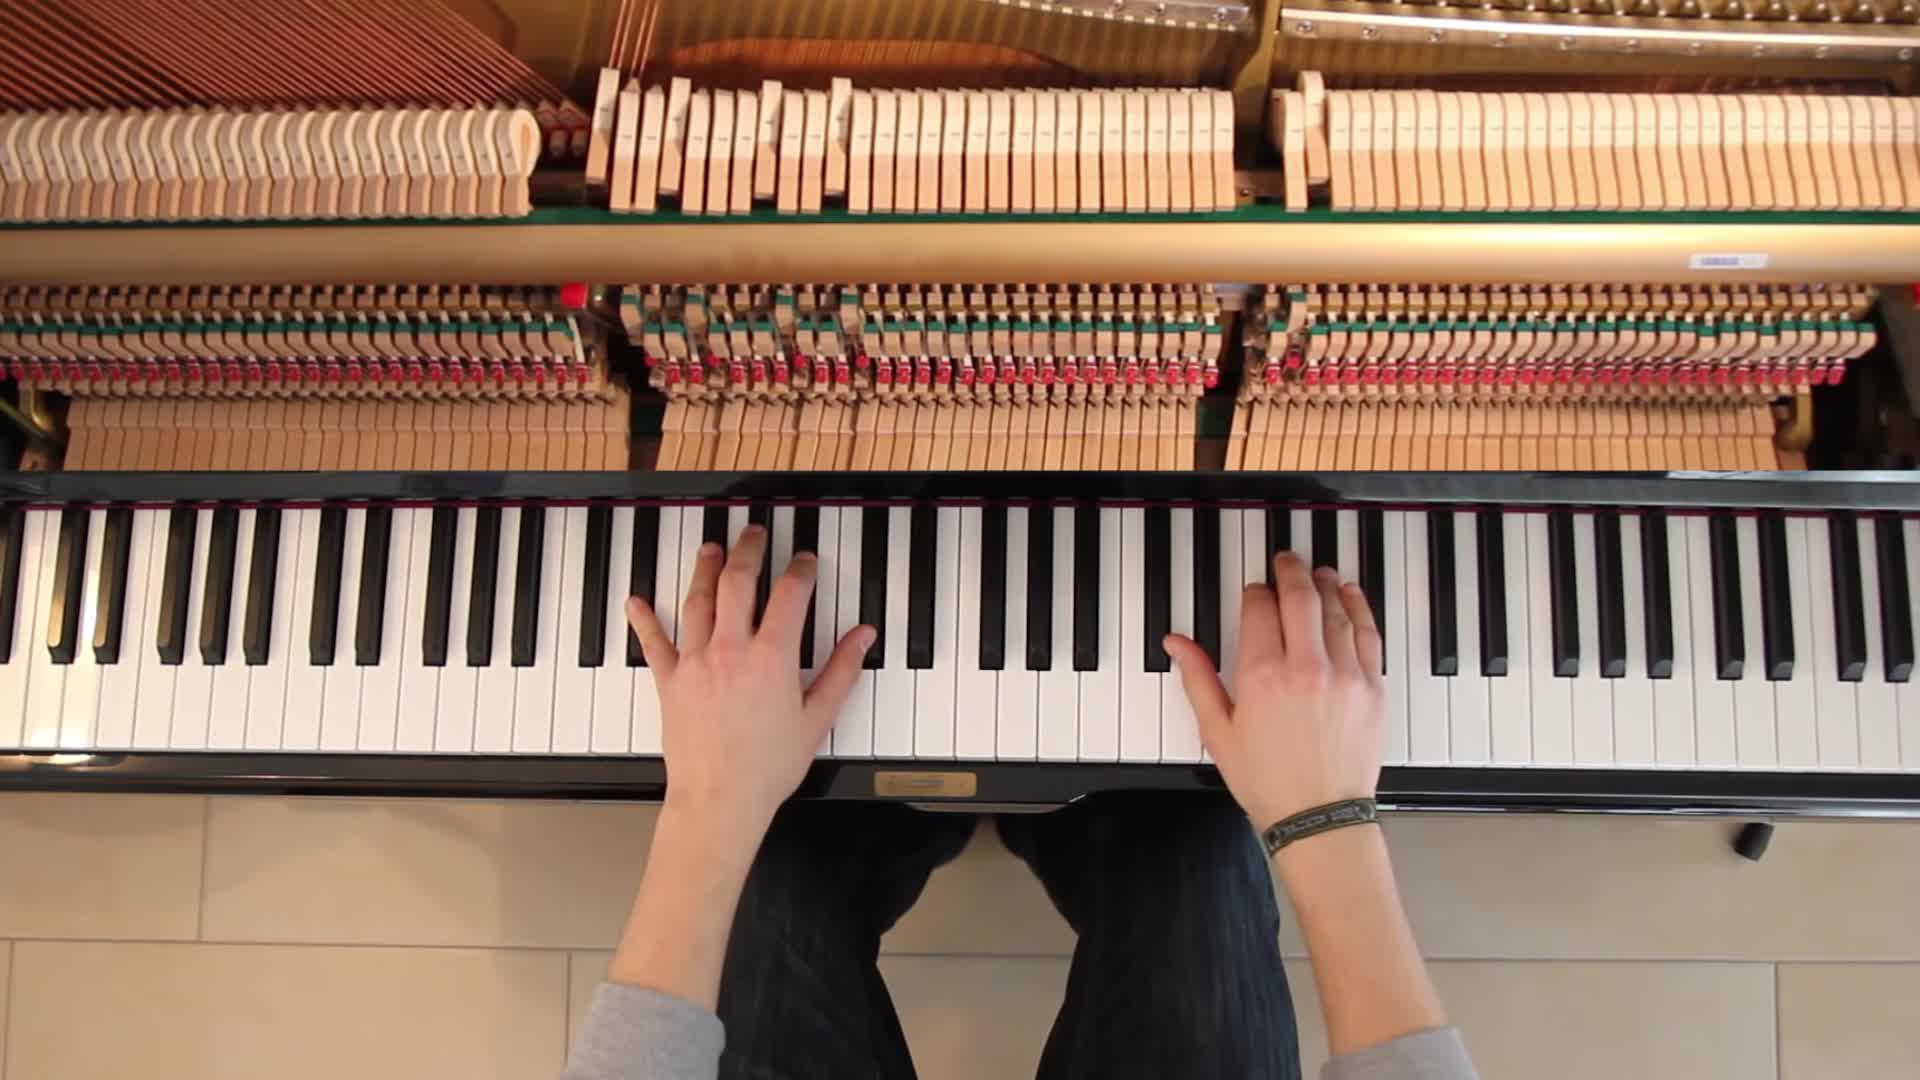left: (613, 522, 881, 793)
right: (1154, 546, 1396, 799)
